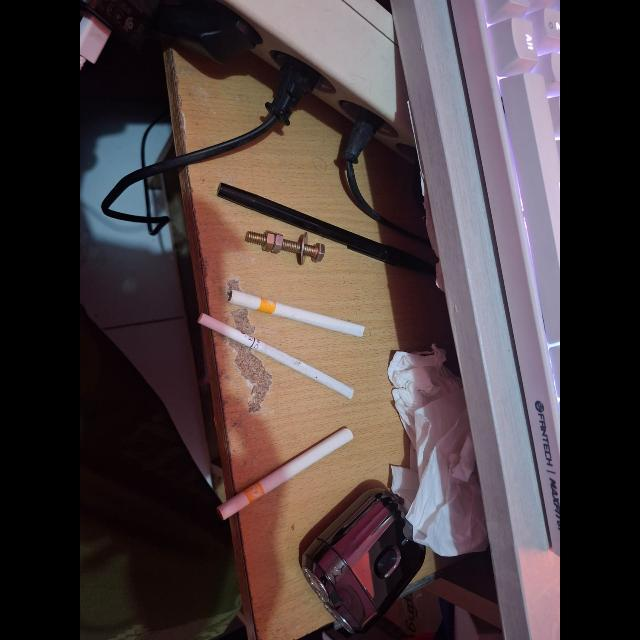rokok: (200, 312, 358, 401), (214, 426, 356, 524), (223, 284, 371, 340)
